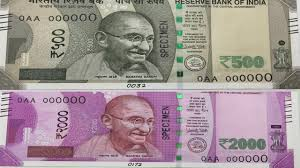fiveHundred: (14, 7, 284, 76)
